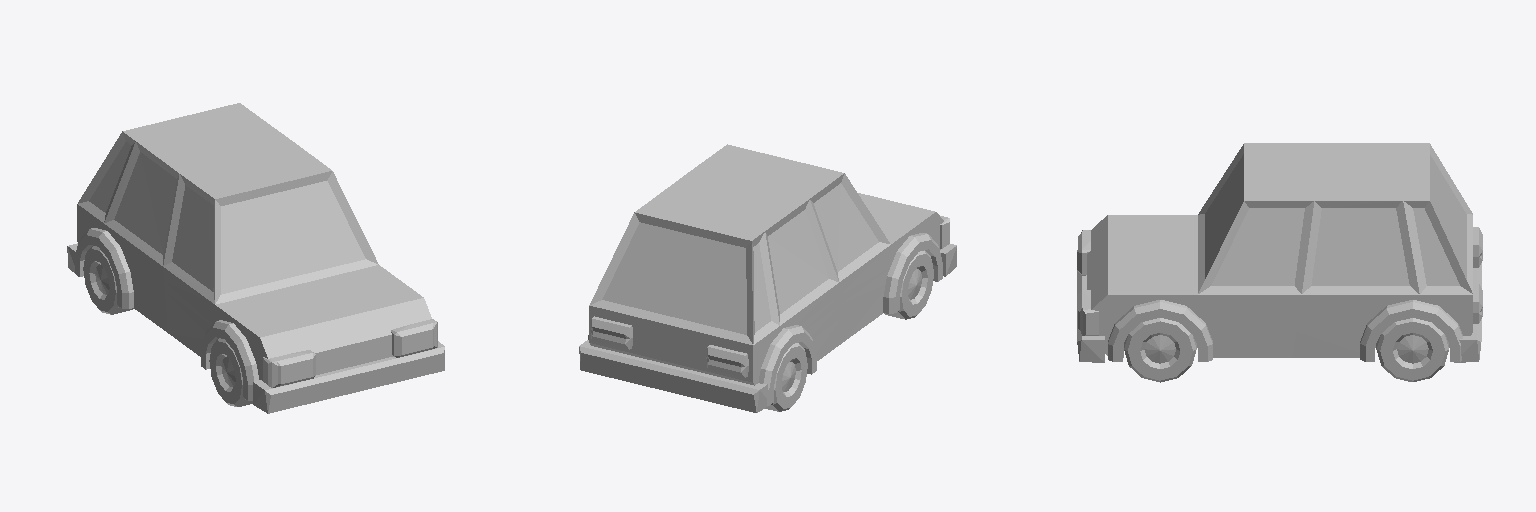
Rendered from car_hatchback_full.obj.
The picture shows the model from 3 angles: view 1: azimuth 30°, elevation 25°; view 2: azimuth 150°, elevation 25°; view 3: azimuth 270°, elevation 25°; orthographic projection.
Visible parts, largest first — view 1: car_hatchback_Cube.13730, car_hatchback_wheel_rear_right_Cylinder.298, car_hatchback_wheel_front_right_Cylinder.297; view 2: car_hatchback_Cube.13730, car_hatchback_wheel_front_right_Cylinder.297, car_hatchback_wheel_rear_right_Cylinder.298; view 3: car_hatchback_Cube.13730, car_hatchback_wheel_front_left_Cylinder.295, car_hatchback_wheel_rear_left_Cylinder.296.
Part boxes in pixels (bbox=[...]): car_hatchback_Cube.13730: bbox=[67, 103, 444, 413]; car_hatchback_wheel_rear_right_Cylinder.298: bbox=[83, 246, 133, 314]; car_hatchback_wheel_front_right_Cylinder.297: bbox=[209, 338, 252, 406]; car_hatchback_Cube.13730: bbox=[579, 144, 956, 412]; car_hatchback_wheel_front_right_Cylinder.297: bbox=[884, 250, 933, 319]; car_hatchback_wheel_rear_right_Cylinder.298: bbox=[765, 343, 807, 411]; car_hatchback_Cube.13730: bbox=[1077, 143, 1482, 362]; car_hatchback_wheel_front_left_Cylinder.295: bbox=[1124, 318, 1196, 382]; car_hatchback_wheel_rear_left_Cylinder.296: bbox=[1376, 318, 1448, 381].
Size of the model in its own units: 0.419 by 0.3688 by 0.8061.